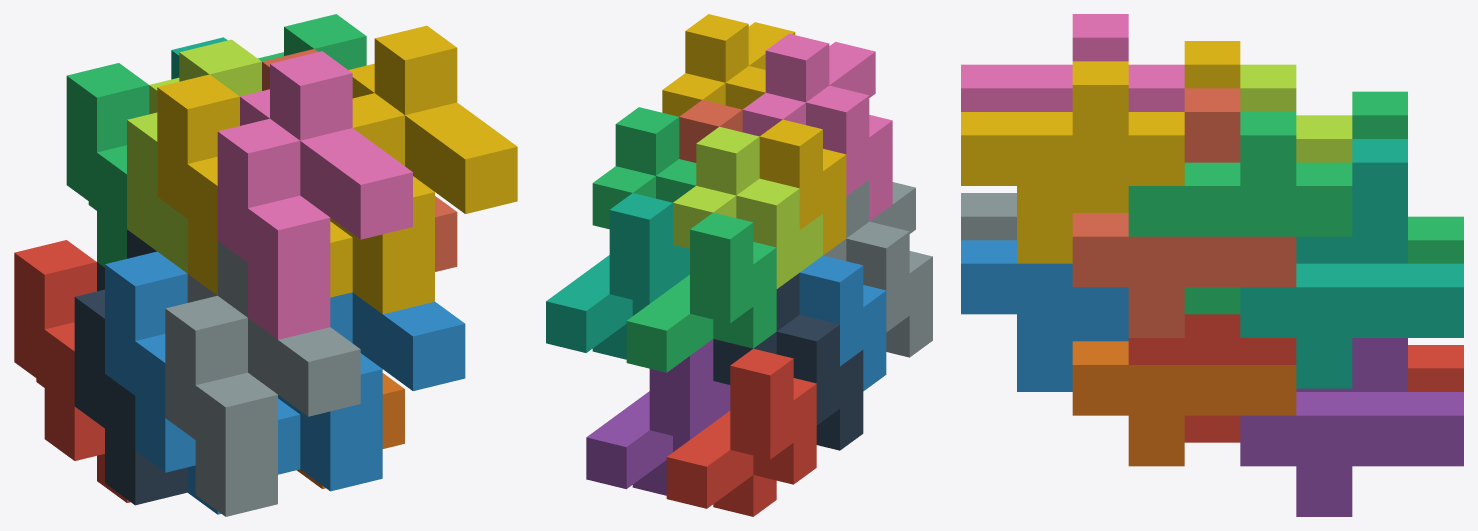
The model's file is tiling.obj.
3 views of the same model, side by side, from view 1: azimuth 30°, elevation 25°; view 2: azimuth 150°, elevation 25°; view 3: azimuth 270°, elevation 25° (orthographic). The views are drawn at different scales.
Parts seen in each view (by area): view 1: copy_2_domain_4, copy_2_domain_2, copy_2_domain_8, copy_2_domain_6, copy_1_domain_2, copy_1_domain_1, copy_1_domain_4, copy_1_domain_3, copy_2_domain_1, copy_2_domain_3, copy_2_domain_7, copy_1_domain_8 (+1 smaller); view 2: copy_1_domain_1, copy_1_domain_3, copy_2_domain_4, copy_1_domain_7, copy_1_domain_5, copy_2_domain_3, copy_2_domain_2, copy_2_domain_1, copy_2_domain_8, copy_2_domain_7, copy_1_domain_4, copy_1_domain_2 (+1 smaller); view 3: copy_1_domain_7, copy_2_domain_8, copy_1_domain_5, copy_1_domain_8, copy_2_domain_7, copy_1_domain_6, copy_2_domain_6, copy_2_domain_4, copy_2_domain_5, copy_2_domain_3, copy_1_domain_3, copy_1_domain_4 (+2 smaller).
Boxes of the visible parts, x1,y1,x2,y2 form: copy_2_domain_4: [217, 51, 412, 339]; copy_2_domain_2: [165, 241, 360, 516]; copy_2_domain_8: [330, 25, 517, 314]; copy_2_domain_6: [278, 292, 465, 491]; copy_1_domain_2: [105, 251, 300, 514]; copy_1_domain_1: [14, 240, 130, 502]; copy_1_domain_4: [157, 74, 352, 297]; copy_1_domain_3: [66, 63, 149, 267]; copy_2_domain_1: [74, 229, 187, 505]; copy_2_domain_3: [127, 39, 261, 273]; copy_2_domain_7: [258, 14, 366, 69]; copy_1_domain_8: [262, 49, 457, 271]; copy_1_domain_1: [666, 348, 816, 516]; copy_1_domain_3: [626, 212, 776, 372]; copy_2_domain_4: [742, 33, 892, 221]; copy_1_domain_7: [546, 193, 689, 359]; copy_1_domain_5: [586, 339, 730, 495]; copy_2_domain_3: [673, 126, 822, 288]; copy_2_domain_2: [823, 180, 932, 357]; copy_2_domain_1: [713, 273, 863, 450]; copy_2_domain_8: [662, 14, 795, 116]; copy_2_domain_7: [592, 107, 696, 229]; copy_1_domain_4: [759, 119, 846, 255]; copy_1_domain_2: [799, 255, 886, 391]; copy_1_domain_7: [1240, 139, 1463, 388]; copy_2_domain_8: [961, 61, 1184, 263]; copy_1_domain_5: [1240, 338, 1463, 516]; copy_1_domain_8: [1072, 88, 1296, 337]; copy_2_domain_7: [1128, 112, 1352, 314]; copy_1_domain_6: [1072, 341, 1296, 466]; copy_2_domain_6: [961, 240, 1128, 391]; copy_2_domain_4: [961, 14, 1184, 111]; copy_2_domain_5: [1128, 314, 1296, 442]; copy_2_domain_3: [1240, 64, 1352, 162]; copy_1_domain_3: [1352, 91, 1463, 263]; copy_1_domain_4: [1184, 41, 1240, 88].
Size of the model in its own units: 5 by 9 by 9.
